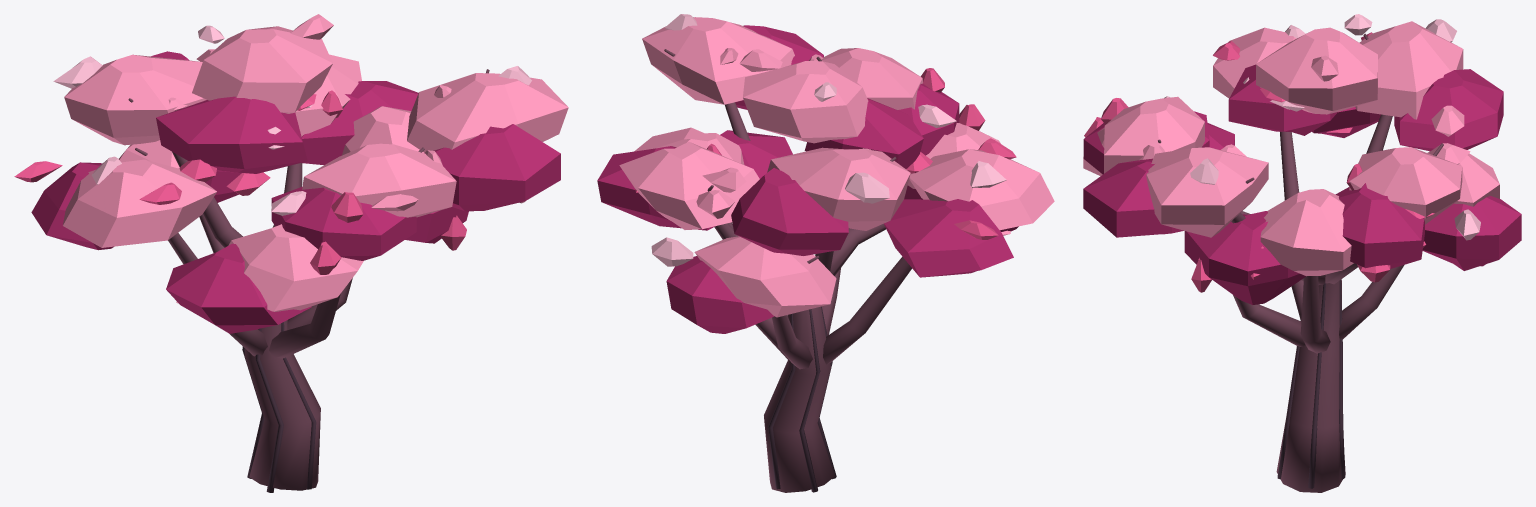
The model's file is ornamental-cherry-low.glb.
The picture shows the model from 3 angles, left to right: view 1: azimuth 30°, elevation 25°; view 2: azimuth 150°, elevation 25°; view 3: azimuth 270°, elevation 25°; orthographic projection. The views are drawn at different scales.
Parts seen in each view (by area): view 1: ornamental-cherry-low · Petal tip, ornamental-cherry-low · Petal shadow, ornamental-cherry-low · Cherry bark, ornamental-cherry-low · Petal midtone, ornamental-cherry-low · Sunlit blush, ornamental-cherry-low · Cherry bark ribs; view 2: ornamental-cherry-low · Petal tip, ornamental-cherry-low · Petal shadow, ornamental-cherry-low · Cherry bark, ornamental-cherry-low · Sunlit blush, ornamental-cherry-low · Petal midtone, ornamental-cherry-low · Cherry bark ribs; view 3: ornamental-cherry-low · Petal tip, ornamental-cherry-low · Petal shadow, ornamental-cherry-low · Cherry bark, ornamental-cherry-low · Sunlit blush, ornamental-cherry-low · Petal midtone, ornamental-cherry-low · Cherry bark ribs.
Part boxes in pixels (x1,y1,x2,y2): ornamental-cherry-low · Petal tip: (63,14,568,311); ornamental-cherry-low · Petal shadow: (31,51,560,333); ornamental-cherry-low · Cherry bark: (128,69,489,490); ornamental-cherry-low · Petal midtone: (14,90,466,274); ornamental-cherry-low · Sunlit blush: (53,25,531,215); ornamental-cherry-low · Cherry bark ribs: (242,322,316,492); ornamental-cherry-low · Petal tip: (619,17,1054,317); ornamental-cherry-low · Petal shadow: (597,25,1018,333); ornamental-cherry-low · Cherry bark: (664,49,911,492); ornamental-cherry-low · Sunlit blush: (651,14,1006,266); ornamental-cherry-low · Petal midtone: (635,68,1016,239); ornamental-cherry-low · Cherry bark ribs: (768,306,836,492); ornamental-cherry-low · Petal tip: (1083,21,1499,276); ornamental-cherry-low · Petal shadow: (1083,64,1521,304); ornamental-cherry-low · Cherry bark: (1158,33,1443,492); ornamental-cherry-low · Sunlit blush: (1164,14,1480,240); ornamental-cherry-low · Petal midtone: (1084,32,1434,292); ornamental-cherry-low · Cherry bark ribs: (1277,280,1345,488).
Bounding box in the file's own units: 6.3 × 6.05 × 5.45.
